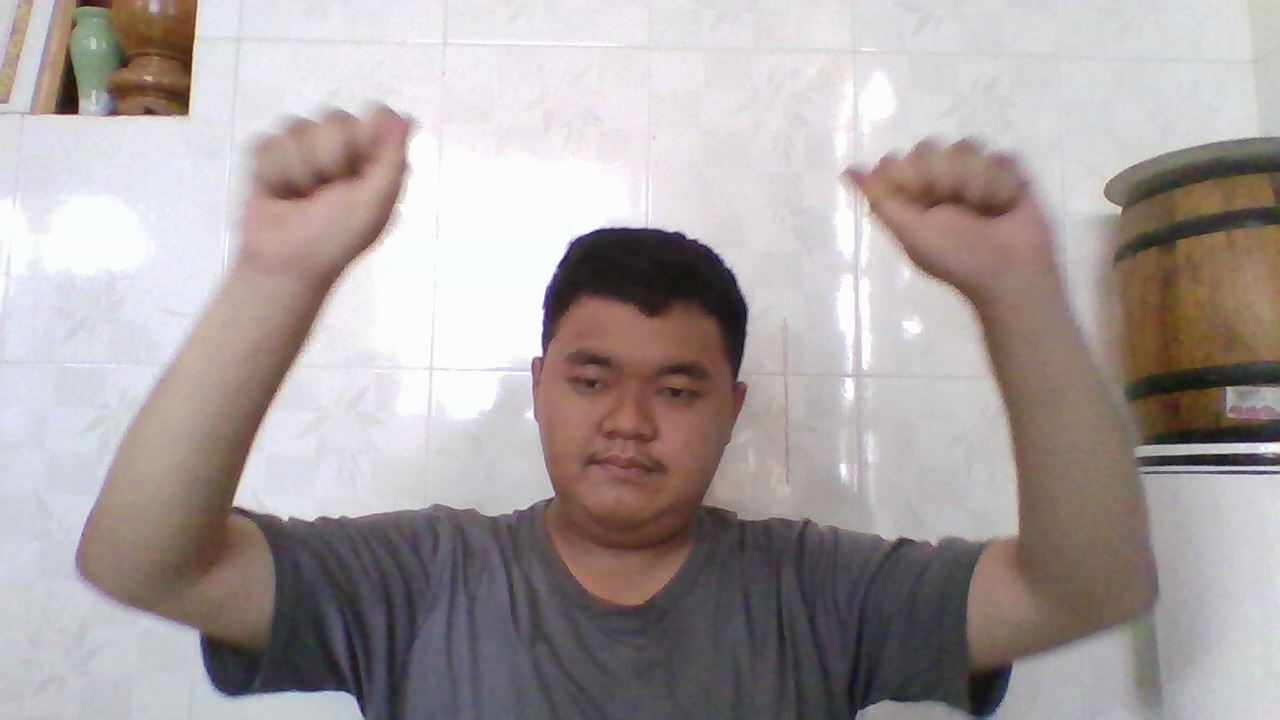A: (837, 131, 1028, 284), (253, 101, 418, 270)
